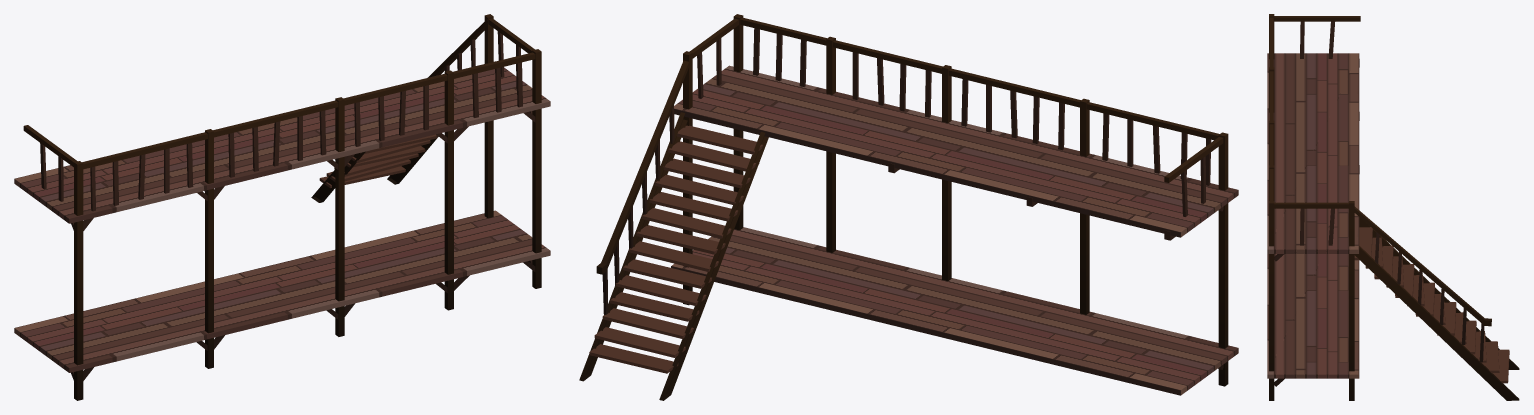
Rendered from Deck 10M.glb.
The picture shows the model from 3 angles, left to right: view 1: azimuth 30°, elevation 25°; view 2: azimuth 150°, elevation 25°; view 3: azimuth 270°, elevation 25°; orthographic projection. The views are drawn at different scales.
Parts seen in each view (by area): view 1: Deck 10M; view 2: Deck 10M; view 3: Deck 10M.
Boxes of the visible parts, bbox=[...] form: Deck 10M: bbox=[14, 14, 550, 400]; Deck 10M: bbox=[579, 14, 1238, 400]; Deck 10M: bbox=[1267, 14, 1519, 400].
Size of what is drawn, in the model's own units: 10.13 by 4.75 by 5.49.
2 materials, 2 textured.
